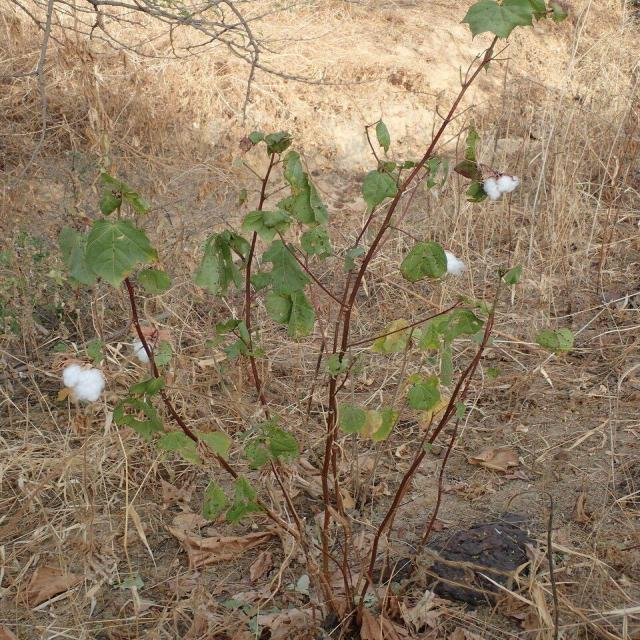Late_blight: (462, 165, 519, 203), (61, 361, 109, 404), (438, 245, 470, 278)
